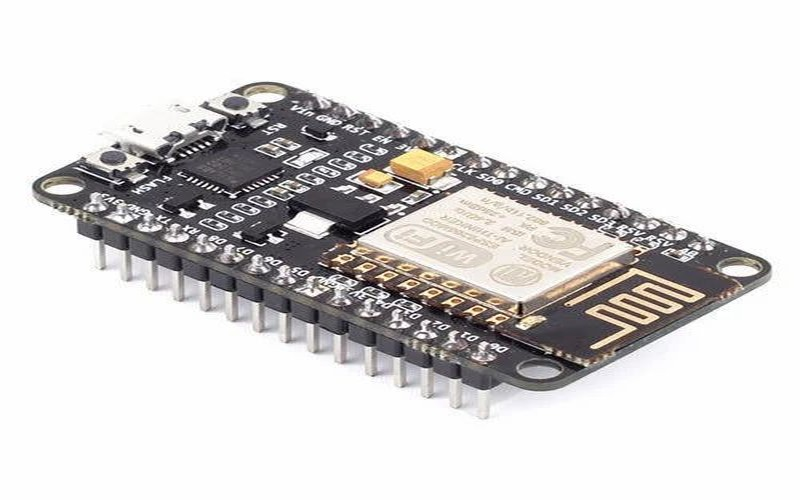IoT Sensor: (27, 67, 779, 425)
